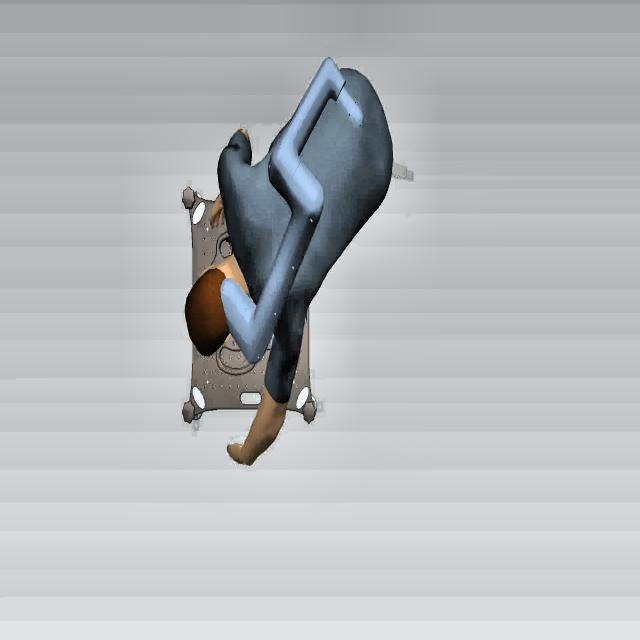human: (180, 58, 407, 476)
robot: (216, 54, 366, 379)
